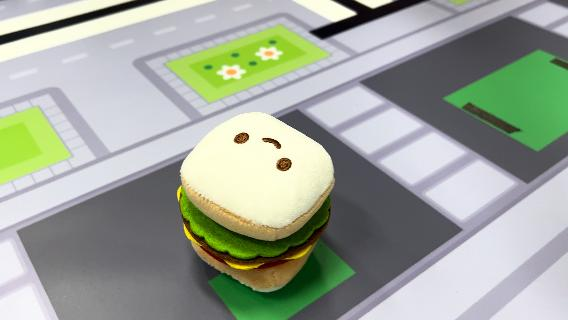sandwich: (175, 110, 337, 292)
